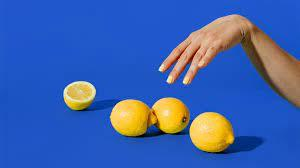lemon: (190, 112, 234, 152), (110, 100, 157, 136), (152, 98, 190, 133), (63, 81, 96, 110)
